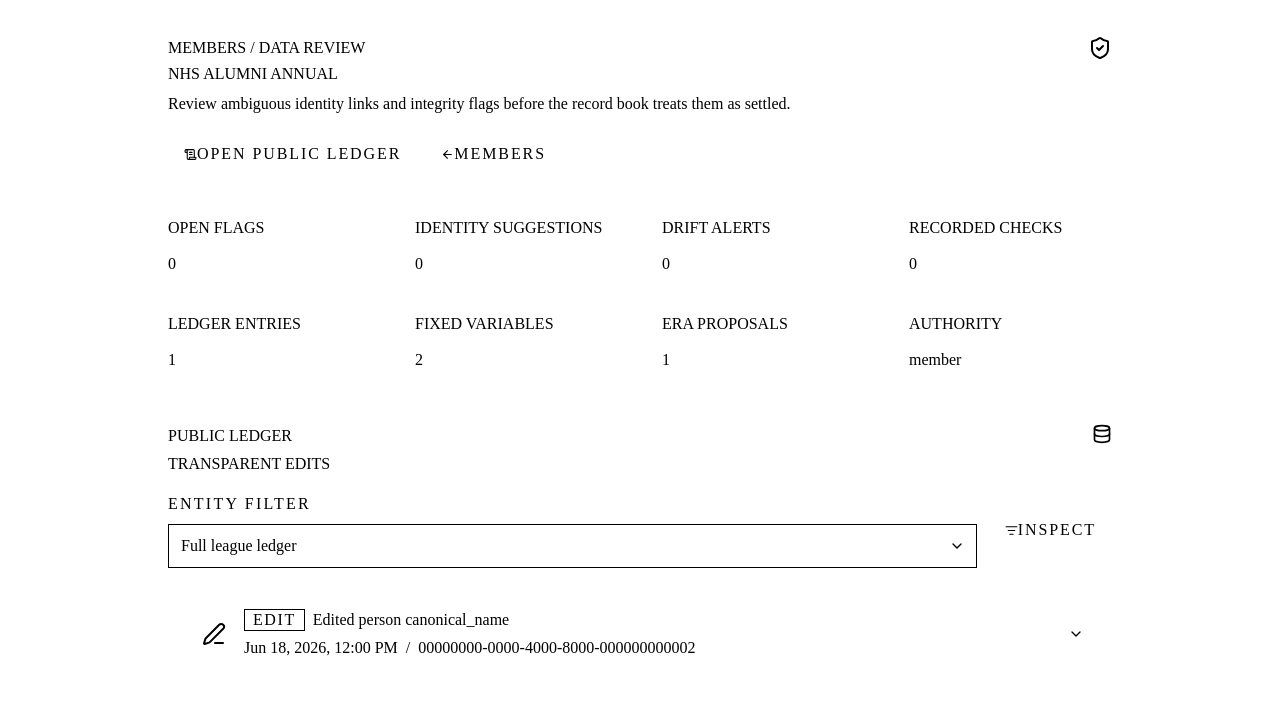
Test: ordinary members can inspect the public ledger without edit controls
The width and height of the screenshot is (1280, 720).
Click the button "Open public ledger" at [293, 154], box 168,132 -> 417,176
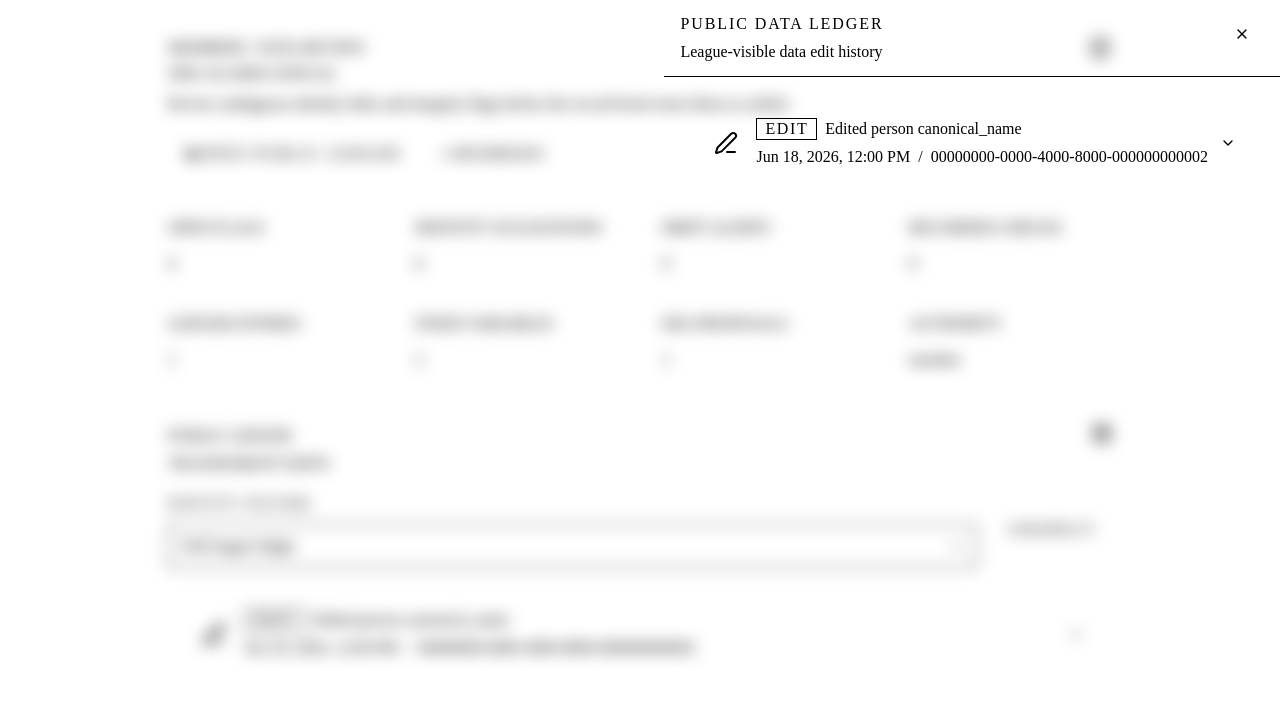
expect the 2nd text "Edited person canonical_name" is shown: met, box 313,608 -> 509,632
expect the dialog is shown: met, box 664,0 -> 1279,181
